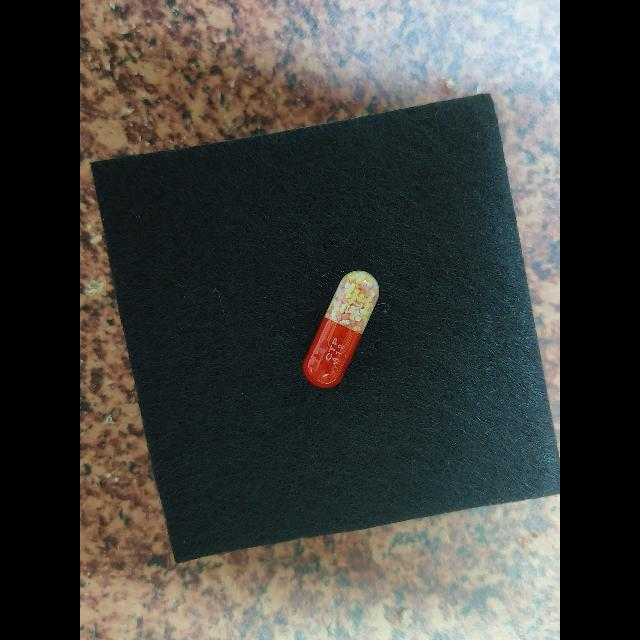Intact Capsule: (303, 271, 379, 388)
